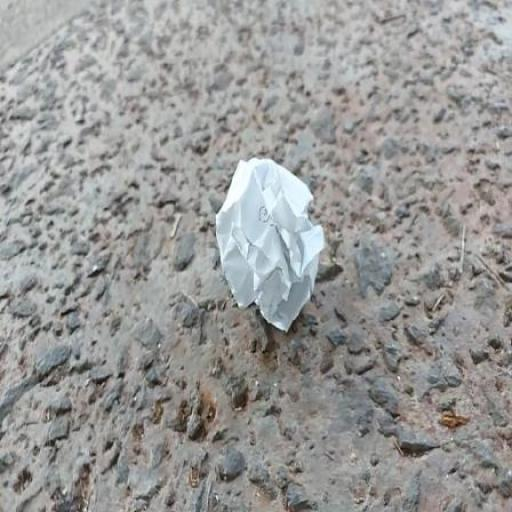paper: (177, 114, 359, 352)
